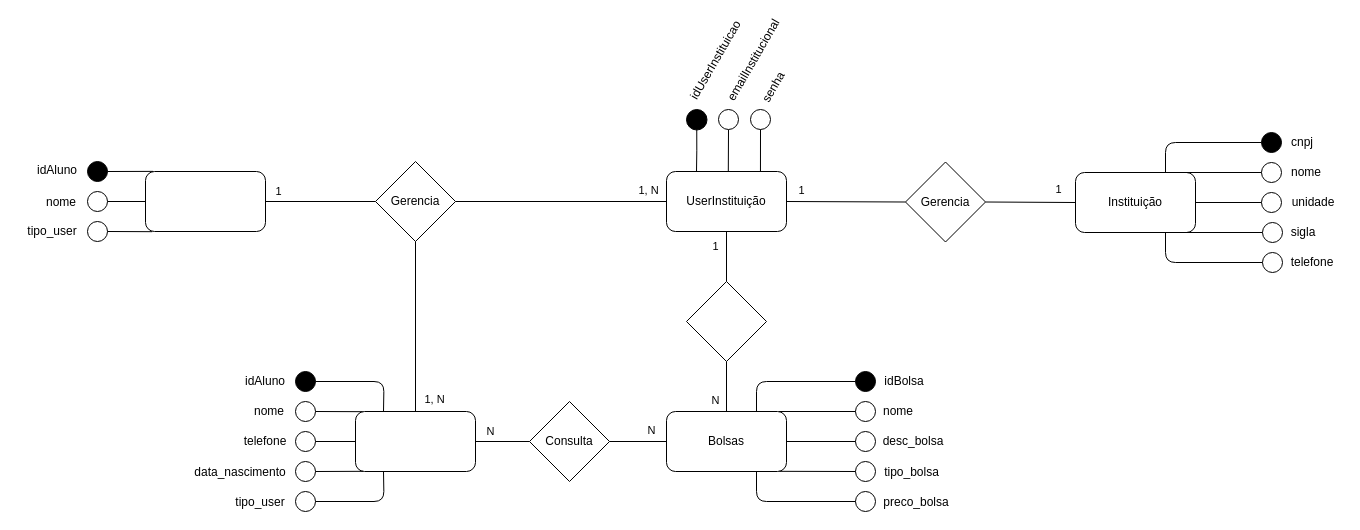
The diagram is 1360 pixels wide and 530 high, and some of its shapes have lost their labels. The shapes that lost their labels are listed below. From the top down, each one's box as (x1, y1, x2, y2) in pixels, then its label:
(144, 170, 266, 232): Administrador
(686, 280, 766, 362): Cadastra
(354, 410, 476, 472): Aluno
